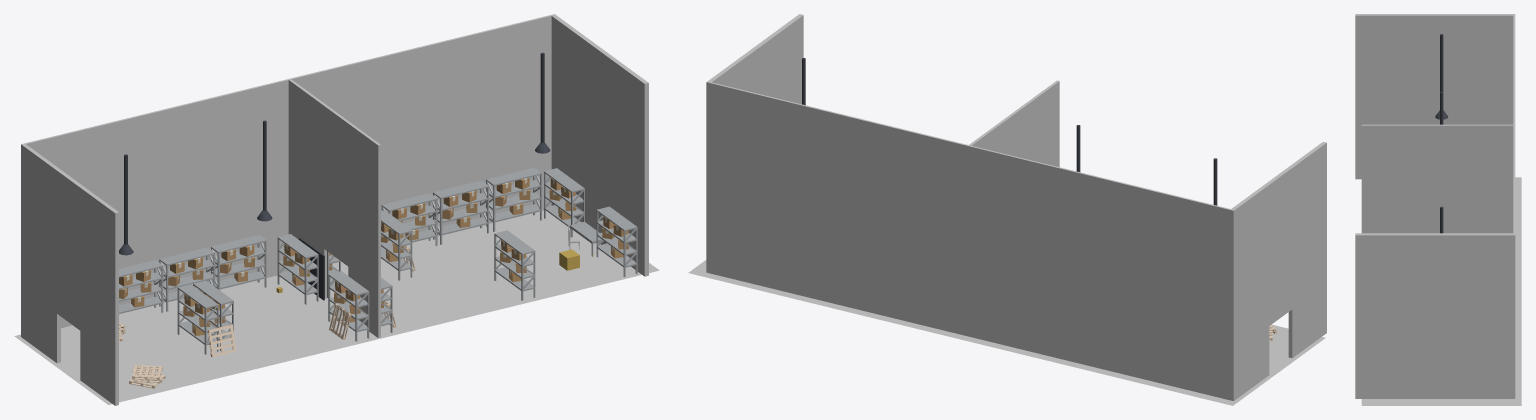
Rendered from tutorialLevel(V2).fbx.
The picture shows the model from 3 angles, left to right: view 1: azimuth 30°, elevation 25°; view 2: azimuth 150°, elevation 25°; view 3: azimuth 270°, elevation 25°; orthographic projection. The views are drawn at different scales.
Visible parts, largest first — view 1: tutorialWalls, floor, storageShelf (×14); view 2: tutorialWalls, floor; view 3: tutorialWalls, floor, lightCable.
Boxes of the visible parts, x1,y1,x2,y2 form: tutorialWalls: [21, 14, 648, 405]; floor: [14, 210, 659, 404]; storageShelf (×14): [119, 167, 637, 354]; tutorialWalls: [706, 14, 1326, 401]; floor: [688, 260, 1325, 405]; tutorialWalls: [1355, 14, 1515, 398]; floor: [1361, 177, 1521, 405]; lightCable: [1440, 34, 1443, 91].
Size of the model in its own units: 144 by 50.06 by 44.41.
